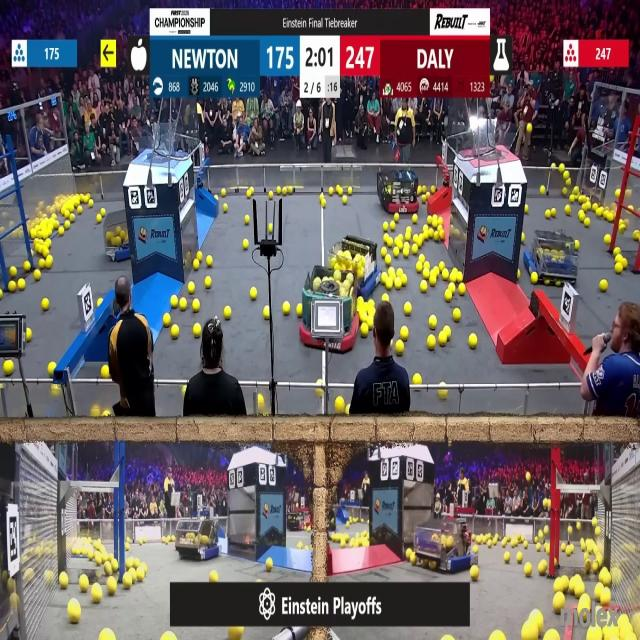ball_airborne: (542, 498, 548, 508), (526, 125, 532, 134), (592, 519, 598, 528)
ball_ground: (532, 613, 544, 636), (68, 601, 80, 622), (554, 594, 564, 613), (92, 586, 102, 604), (107, 580, 117, 596), (336, 396, 346, 412), (600, 569, 610, 585), (79, 578, 89, 593), (601, 591, 610, 607), (554, 580, 564, 594), (4, 360, 13, 375), (101, 630, 114, 640), (60, 572, 68, 588), (594, 586, 602, 602), (395, 341, 403, 356), (469, 566, 477, 580), (468, 336, 476, 350), (427, 338, 435, 352), (538, 561, 546, 575), (122, 574, 130, 588), (574, 584, 582, 598), (210, 570, 219, 582), (427, 561, 436, 573), (192, 324, 200, 337), (400, 326, 408, 339), (453, 309, 461, 322), (440, 335, 448, 348), (524, 563, 532, 576), (136, 568, 144, 581), (92, 408, 101, 419), (547, 631, 558, 640), (172, 324, 179, 338), (191, 300, 199, 312), (360, 324, 368, 336), (420, 281, 428, 293), (492, 632, 504, 640), (283, 303, 290, 316), (102, 364, 109, 377), (42, 299, 49, 312), (8, 281, 16, 292), (440, 389, 448, 400), (223, 307, 230, 319), (250, 287, 257, 299), (179, 299, 186, 311), (600, 280, 607, 292), (531, 273, 538, 285), (172, 295, 179, 307), (187, 282, 194, 294), (429, 316, 436, 328), (165, 314, 172, 326), (48, 361, 54, 375), (403, 304, 410, 316), (45, 256, 52, 268), (105, 563, 112, 575), (414, 375, 422, 385), (616, 265, 624, 275), (428, 276, 436, 286), (387, 237, 395, 247), (394, 237, 402, 247), (268, 558, 274, 571), (27, 328, 33, 341), (296, 305, 302, 318), (257, 393, 263, 406), (394, 279, 401, 290), (517, 553, 524, 564), (205, 277, 212, 288), (446, 290, 453, 301), (457, 272, 464, 283), (451, 272, 458, 283), (265, 307, 271, 319), (422, 270, 430, 279), (620, 220, 626, 232), (445, 326, 453, 335), (382, 270, 388, 282), (17, 280, 24, 290), (243, 240, 250, 250), (9, 268, 16, 278), (164, 633, 174, 640), (42, 246, 49, 256), (459, 283, 465, 294), (387, 279, 393, 290), (503, 553, 509, 564), (40, 260, 46, 271), (112, 560, 118, 571), (578, 210, 584, 221), (402, 248, 409, 257), (606, 212, 613, 221), (596, 209, 603, 218), (35, 271, 41, 281), (25, 263, 31, 273), (413, 244, 419, 254), (192, 261, 198, 271), (207, 256, 213, 266), (392, 248, 398, 258), (444, 271, 450, 281), (585, 217, 591, 227), (633, 232, 639, 242), (604, 235, 610, 245), (450, 282, 456, 292), (440, 232, 446, 242), (127, 558, 133, 568), (359, 312, 365, 322), (337, 186, 343, 196), (564, 206, 571, 214), (389, 222, 396, 230), (402, 241, 409, 249), (69, 214, 76, 222), (409, 235, 416, 243), (389, 269, 396, 277), (396, 269, 403, 277), (401, 276, 406, 287), (539, 185, 545, 194), (524, 205, 530, 214), (60, 226, 66, 235), (393, 213, 399, 222), (385, 255, 391, 264), (440, 217, 446, 226), (422, 196, 428, 205), (574, 241, 579, 251), (552, 208, 557, 218), (367, 318, 372, 328), (408, 552, 413, 562), (433, 232, 438, 242), (418, 237, 423, 247), (432, 216, 437, 226), (103, 411, 110, 418), (616, 255, 623, 262), (544, 210, 550, 218), (383, 293, 389, 301), (244, 215, 250, 223), (562, 187, 568, 195), (419, 254, 425, 262), (269, 190, 275, 198), (348, 187, 354, 195), (381, 248, 387, 256), (586, 203, 592, 211), (194, 252, 200, 260), (407, 225, 413, 233), (45, 240, 51, 248), (593, 204, 599, 212), (276, 186, 282, 194), (433, 266, 439, 274), (221, 188, 227, 196), (2, 570, 8, 578), (417, 265, 422, 274), (344, 197, 349, 206), (427, 215, 432, 224), (544, 543, 549, 552), (424, 232, 429, 241), (413, 215, 419, 222), (100, 209, 106, 216), (246, 190, 252, 197), (544, 280, 550, 287), (123, 542, 129, 549), (402, 235, 408, 242), (77, 207, 83, 214), (615, 248, 621, 255), (572, 187, 578, 194), (287, 187, 293, 194), (517, 272, 522, 280), (269, 223, 274, 231), (0, 289, 4, 299), (524, 540, 529, 548), (90, 200, 95, 208), (367, 298, 372, 306), (472, 544, 477, 552), (328, 187, 333, 195), (564, 172, 569, 180), (488, 539, 493, 547), (423, 224, 428, 232), (522, 234, 526, 243), (384, 235, 388, 244), (445, 636, 454, 640), (316, 380, 322, 386), (222, 205, 227, 212), (552, 164, 557, 171), (557, 281, 562, 288), (430, 185, 435, 192), (184, 383, 189, 390), (384, 222, 388, 230), (321, 200, 325, 208), (570, 194, 574, 202), (66, 220, 70, 228), (536, 542, 540, 550), (320, 192, 324, 200), (561, 542, 565, 550), (424, 264, 429, 270), (215, 192, 220, 198), (98, 215, 102, 222), (441, 263, 445, 270), (297, 541, 301, 548), (554, 560, 558, 567), (164, 536, 168, 543), (560, 165, 564, 172), (257, 577, 261, 583), (98, 298, 102, 304)
goal: (464, 122, 521, 160), (129, 129, 189, 160)
robot_blue: (415, 517, 473, 576), (528, 230, 578, 284), (175, 517, 219, 560), (103, 223, 131, 263)
robot_red: (302, 266, 358, 352), (378, 168, 420, 216), (285, 512, 306, 531)
